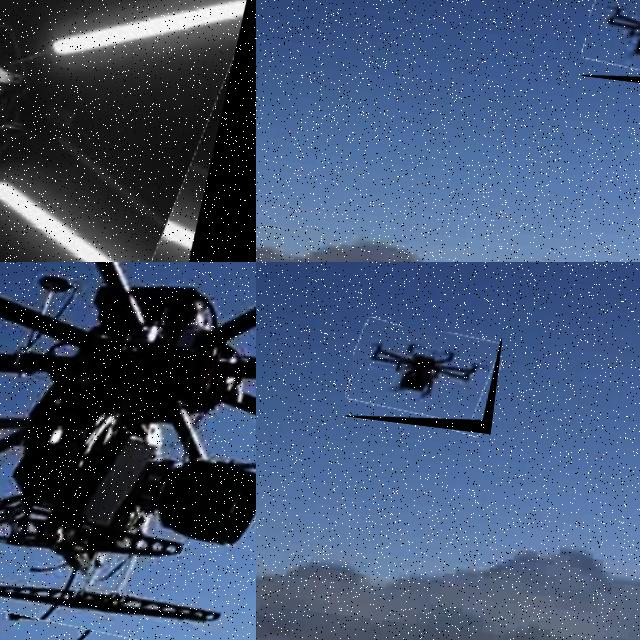drone: (0, 262, 256, 640), (0, 0, 256, 262), (346, 321, 502, 434), (581, 0, 640, 94)
